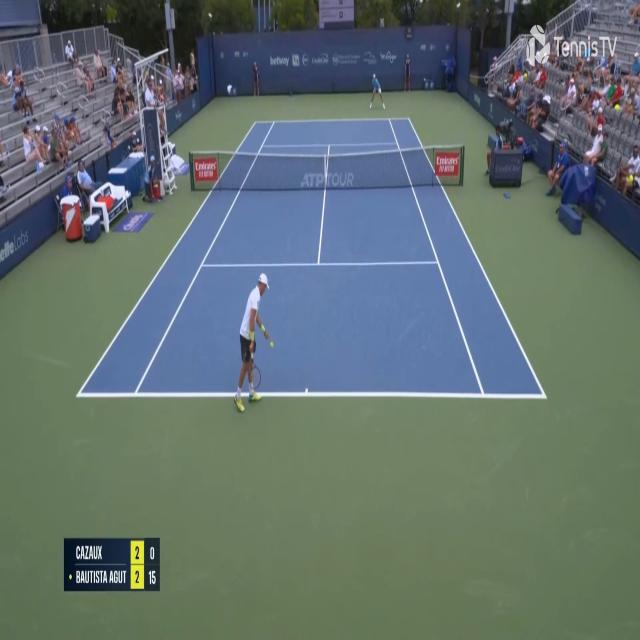tennis-player: (232, 269, 274, 417), (367, 72, 385, 111)
